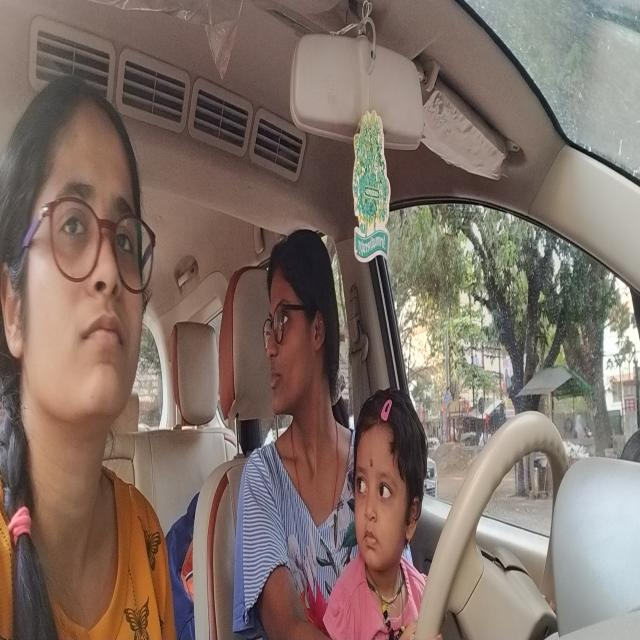LeftRight: (264, 242, 329, 418)
child: (355, 406, 418, 576)
person: (24, 85, 150, 432)
